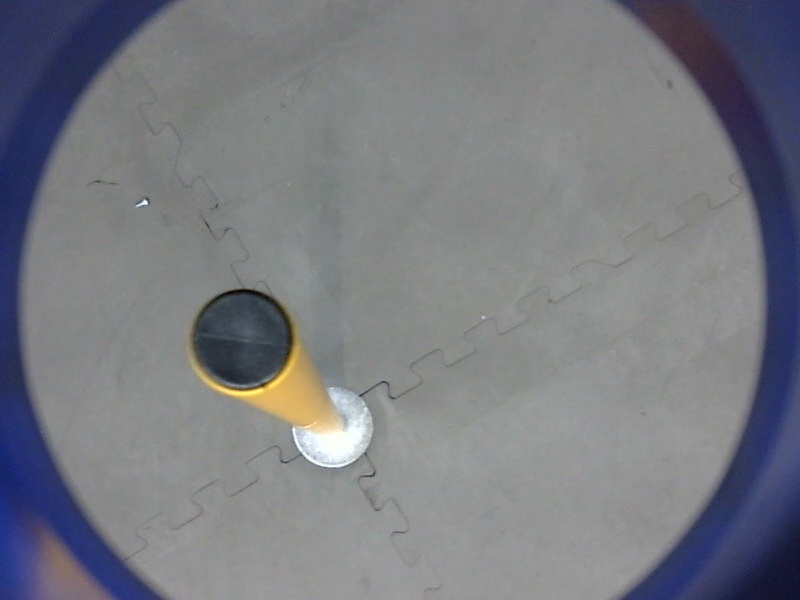tip: (180, 280, 305, 403)
